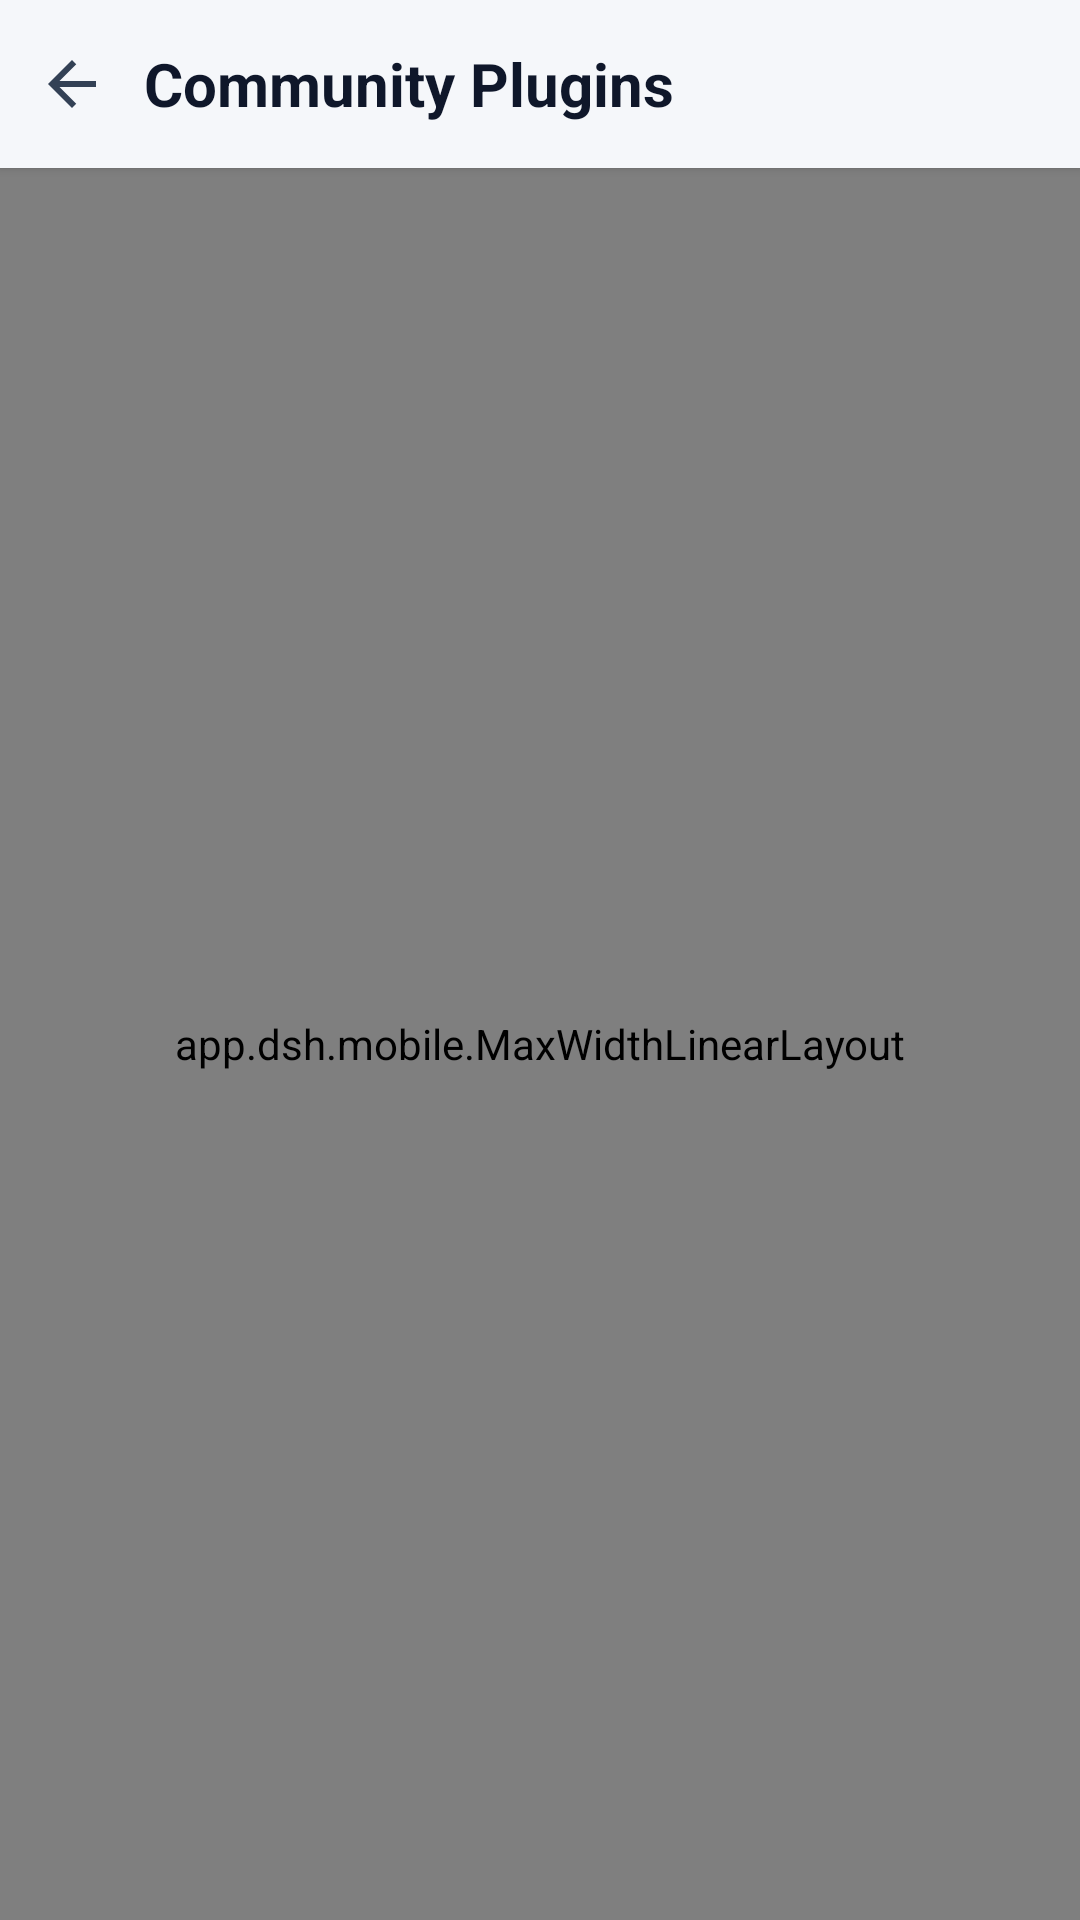

Screen size 1080w x 1920h. Icon name, then its box in pixels as (x1, y1, x2, y2):
Back: (48, 60, 96, 108)
